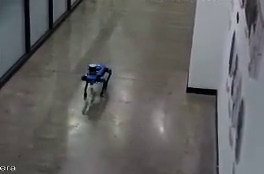robot dog: (79, 60, 114, 102)
